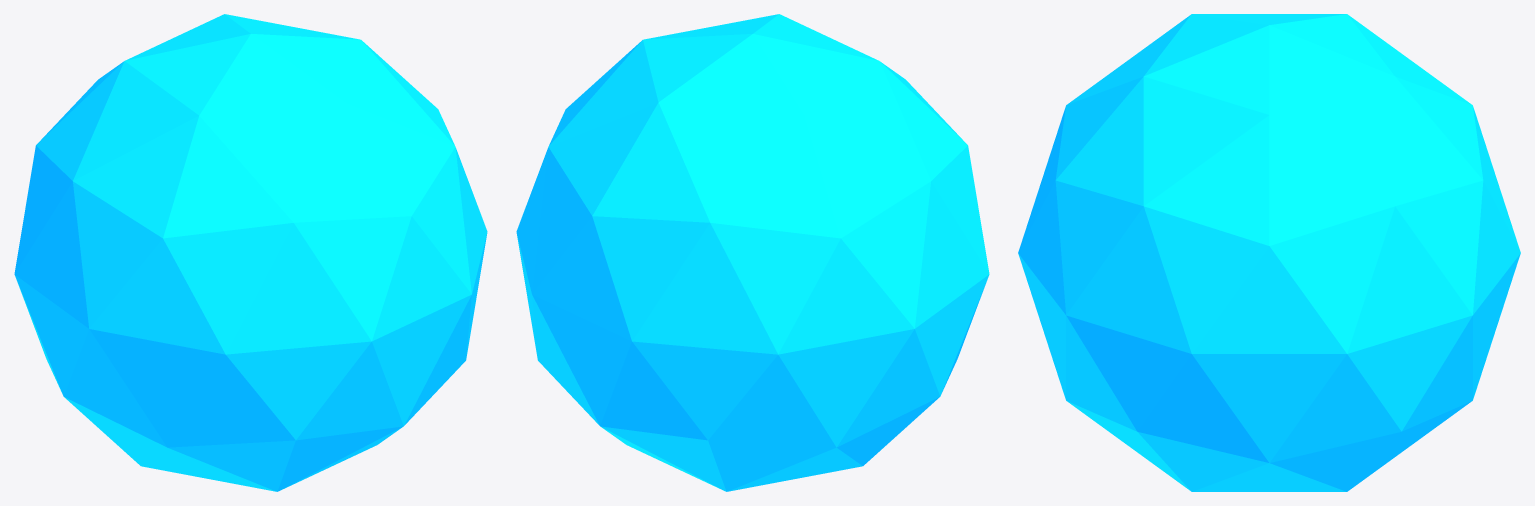
3 renders of one model, left to right at view 1: azimuth 30°, elevation 25°; view 2: azimuth 150°, elevation 25°; view 3: azimuth 270°, elevation 25°, orthographic. The views are drawn at different scales.
Parts seen in each view (by area): view 1: Icosphere; view 2: Icosphere; view 3: Icosphere.
Part boxes in pixels (<box>): Icosphere: <box>14,14,487,491</box>; Icosphere: <box>516,14,989,491</box>; Icosphere: <box>1018,14,1520,491</box>.
Size of the model in its own units: 1.63 by 1.71 by 1.71.
